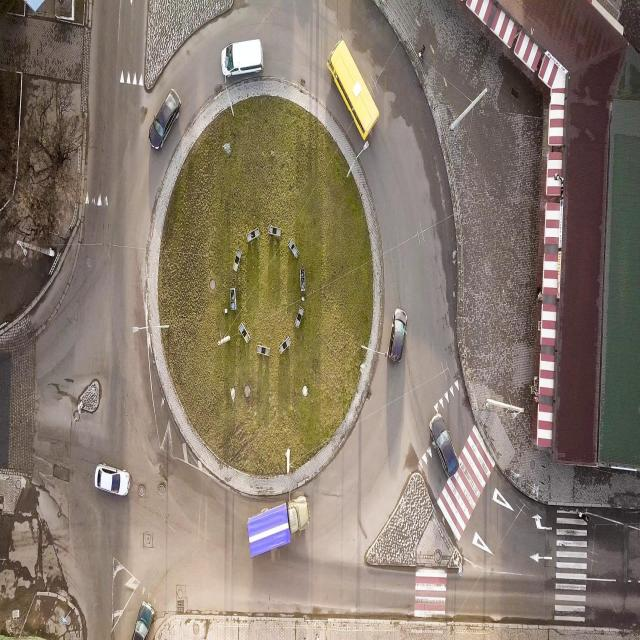Bus: (325, 41, 385, 148)
Car: (145, 84, 184, 162), (210, 30, 268, 82), (84, 455, 132, 507), (386, 303, 413, 382), (429, 418, 461, 482), (124, 593, 154, 640)
Truck: (244, 482, 312, 570)
